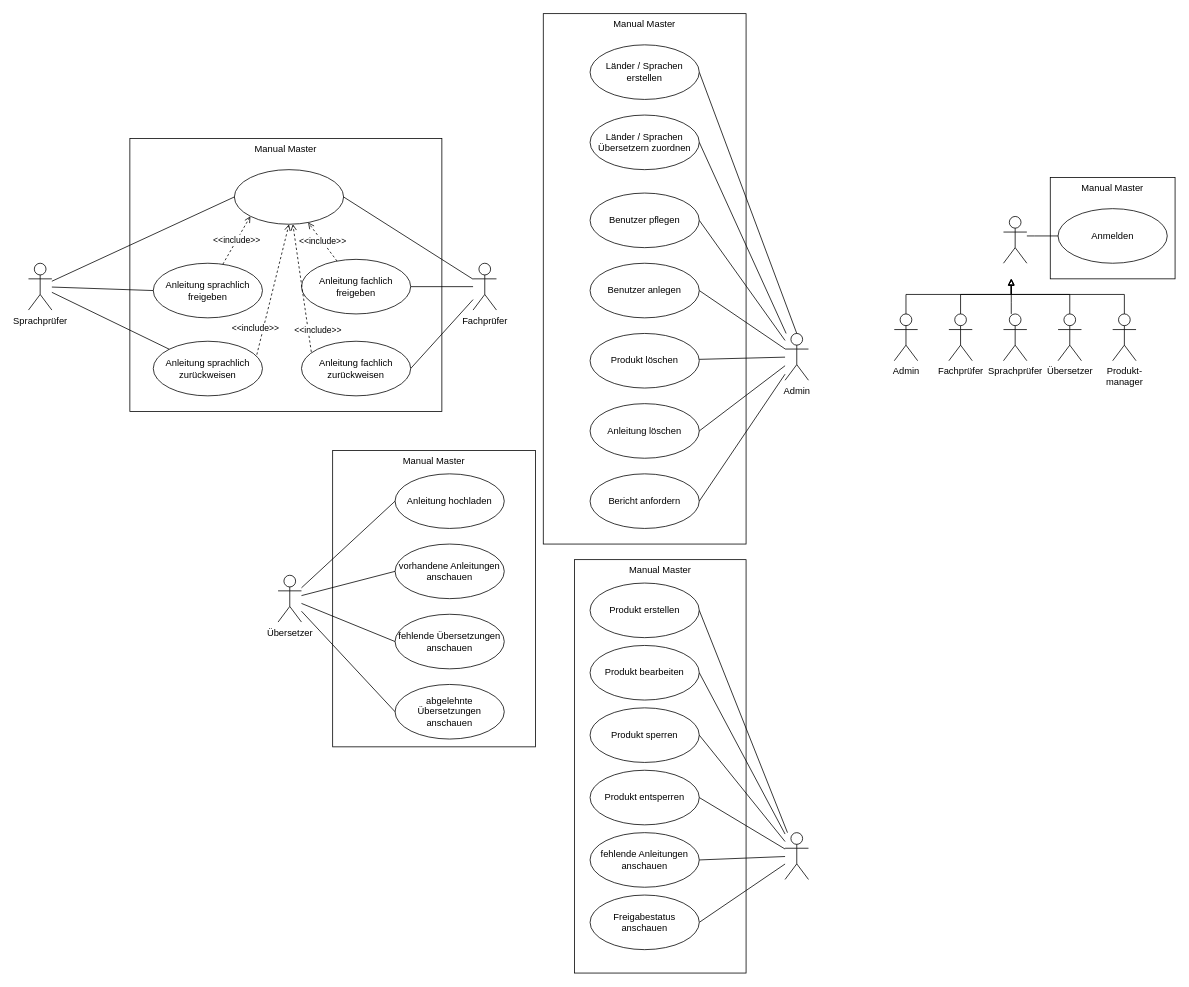
This 1189x987 diagram has some shape labels left out. Each missing label, with the centre of its shape:
"Benutzer" goes at point 1015,239.
"Freizugebende Anleitungen anschauen" goes at point 289,196.
"Produktmanager" goes at point 796,855.
